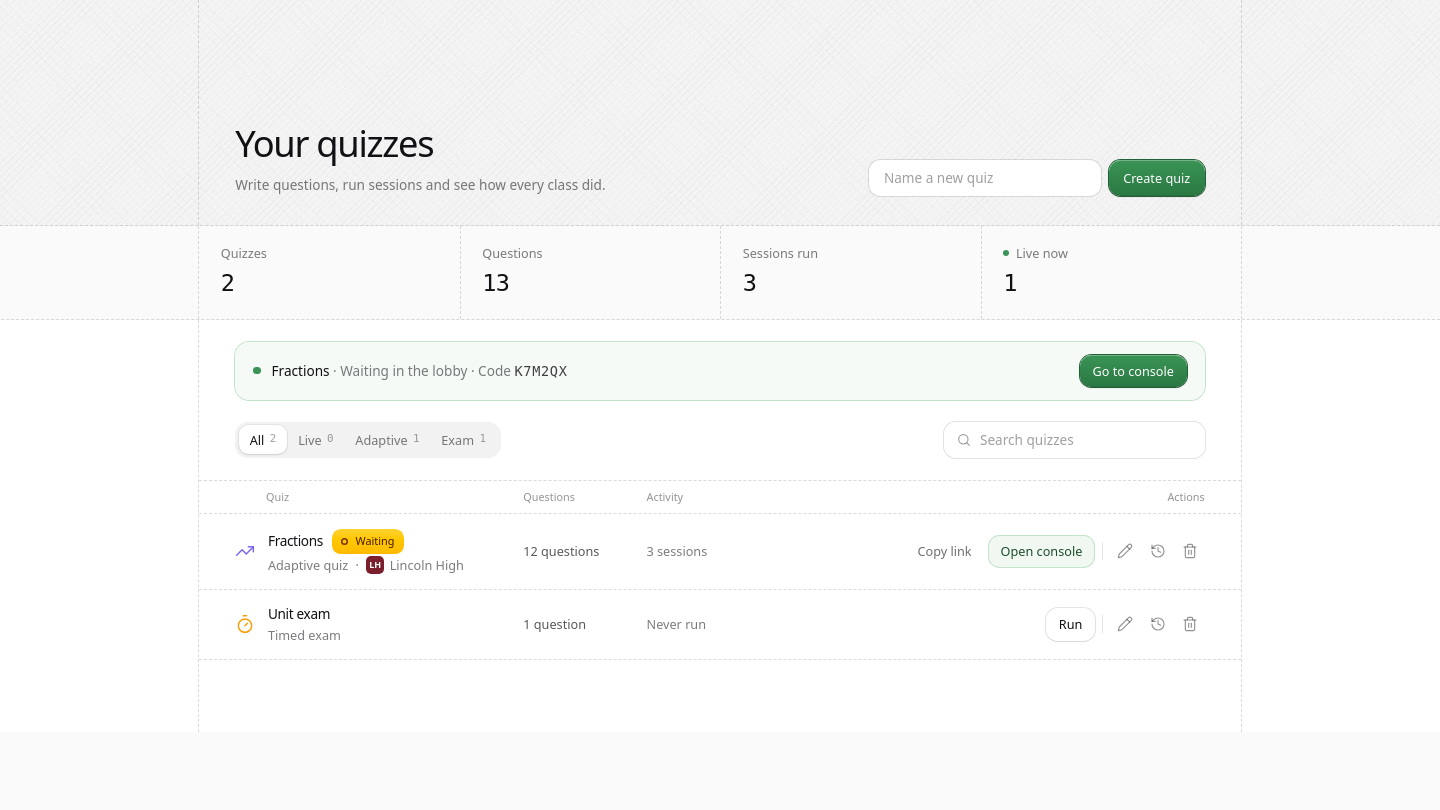
Host dashboard › asks in a dialog, not the browser, before deleting a quiz
Expected: the element "Unit exam" is shown, [235, 604, 1205, 644]
Click the button named "delete".
click(1190, 624)  # box [1176, 610, 1205, 639]
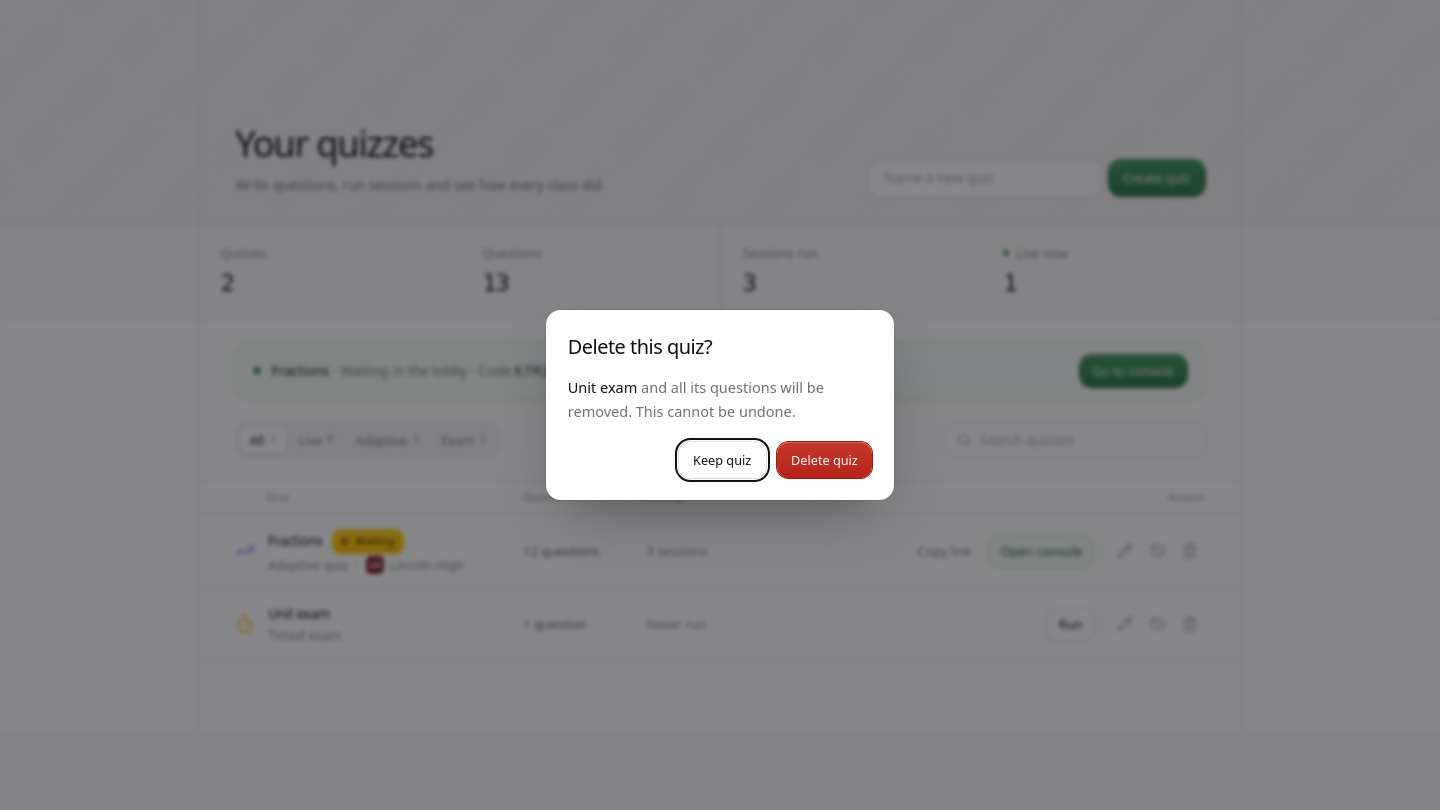
Now the dialog "Delete this quiz?" shows "Unit exam", box [568, 378, 637, 398]
Click the button "Keep quiz".
click(722, 460)  # box [679, 442, 766, 478]
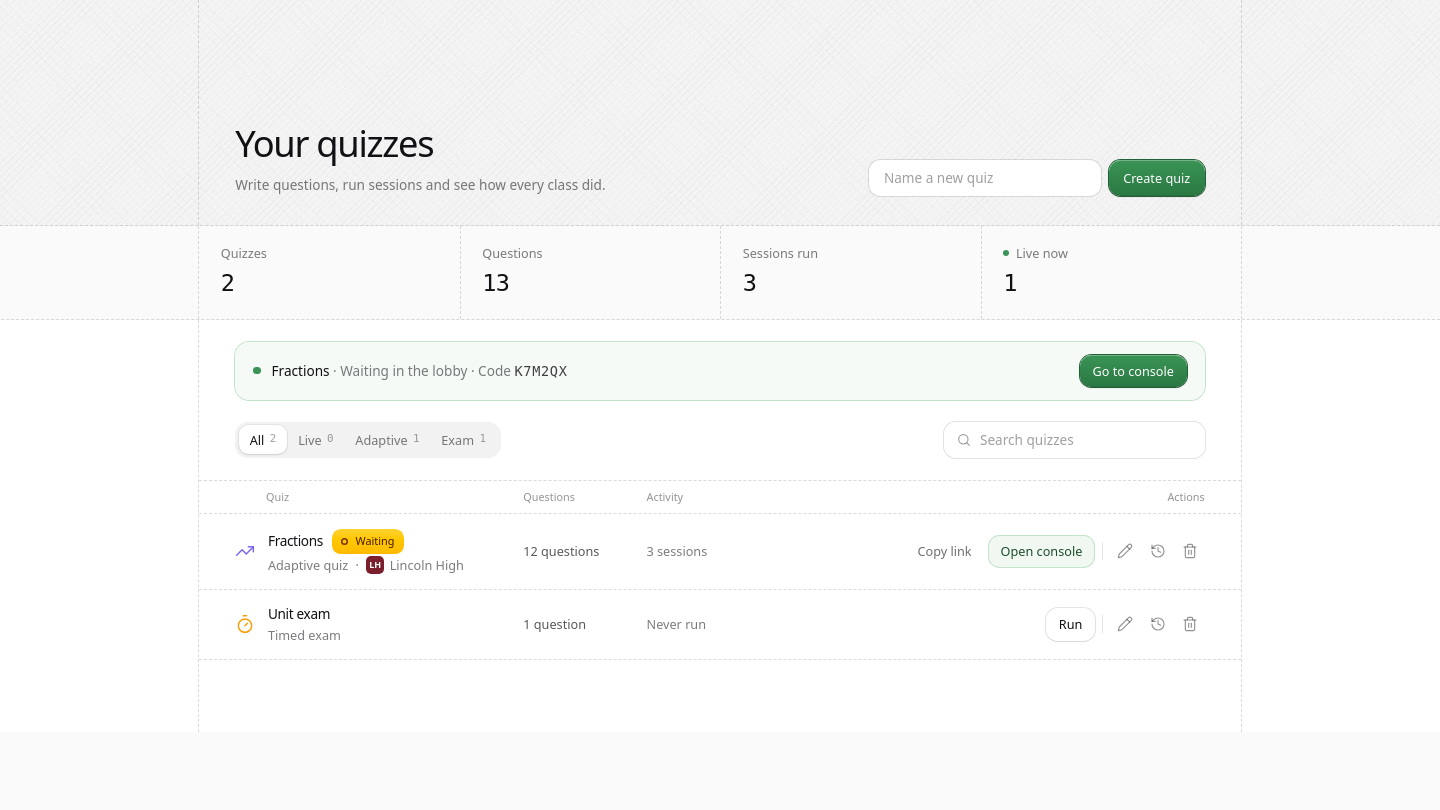
Now the dialog is gone
Click the button named "delete".
click(1190, 624)  # box [1176, 610, 1205, 639]
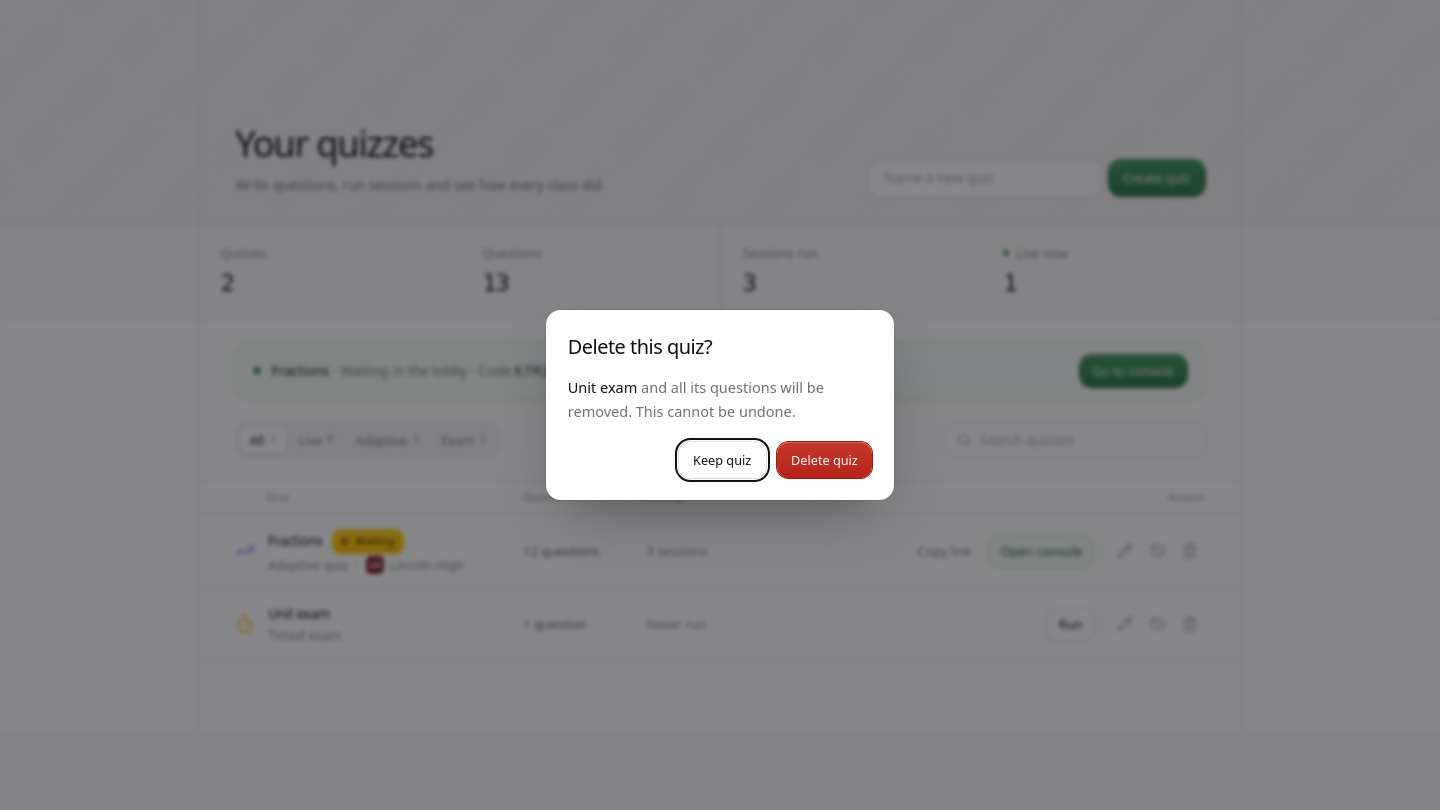
Click the button "Delete quiz".
click(824, 460)  # box [777, 442, 872, 478]
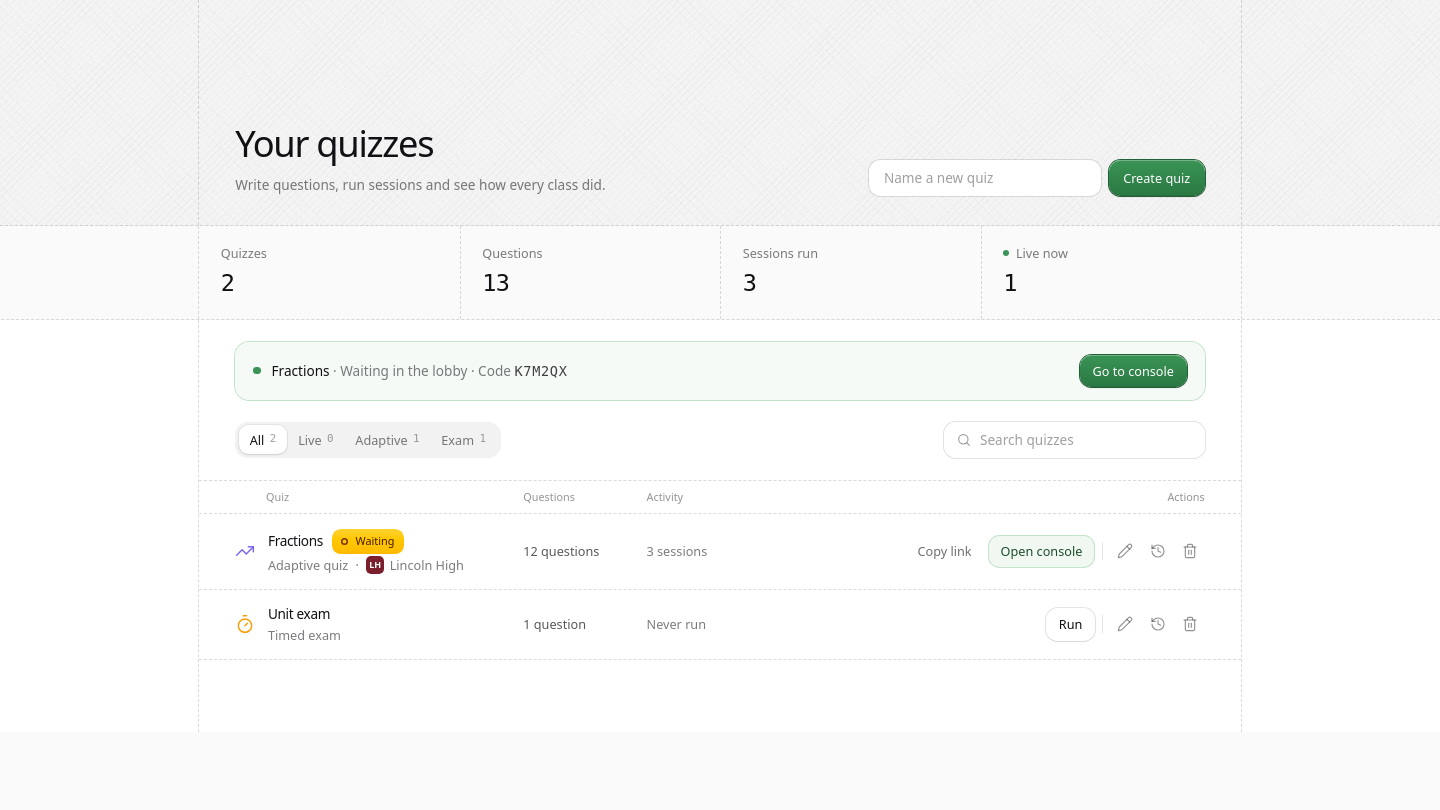
Now the dialog is gone
